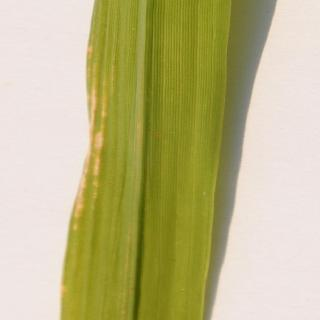Hawar-Daun: (72, 41, 120, 222)
